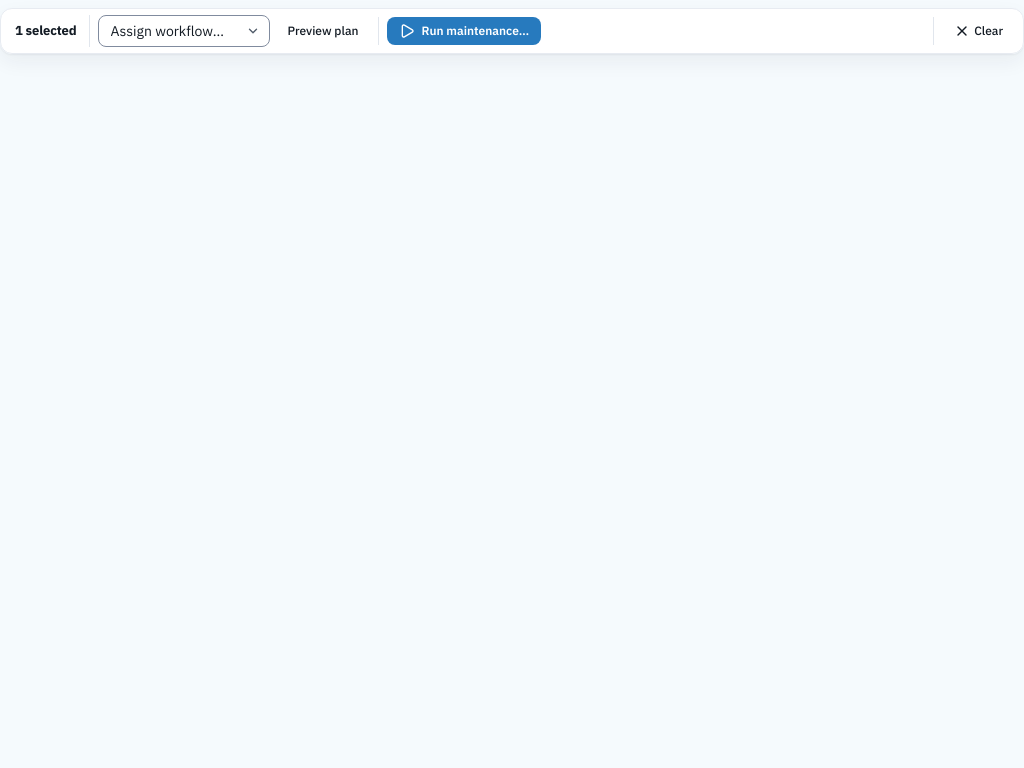
BulkAssignBar › labels native engine destinations and blocks manifest-only runs on them
This screenshot has width=1024, height=768.
Click the button "Run maintenance…" at (464, 31), box [388, 17, 541, 45]
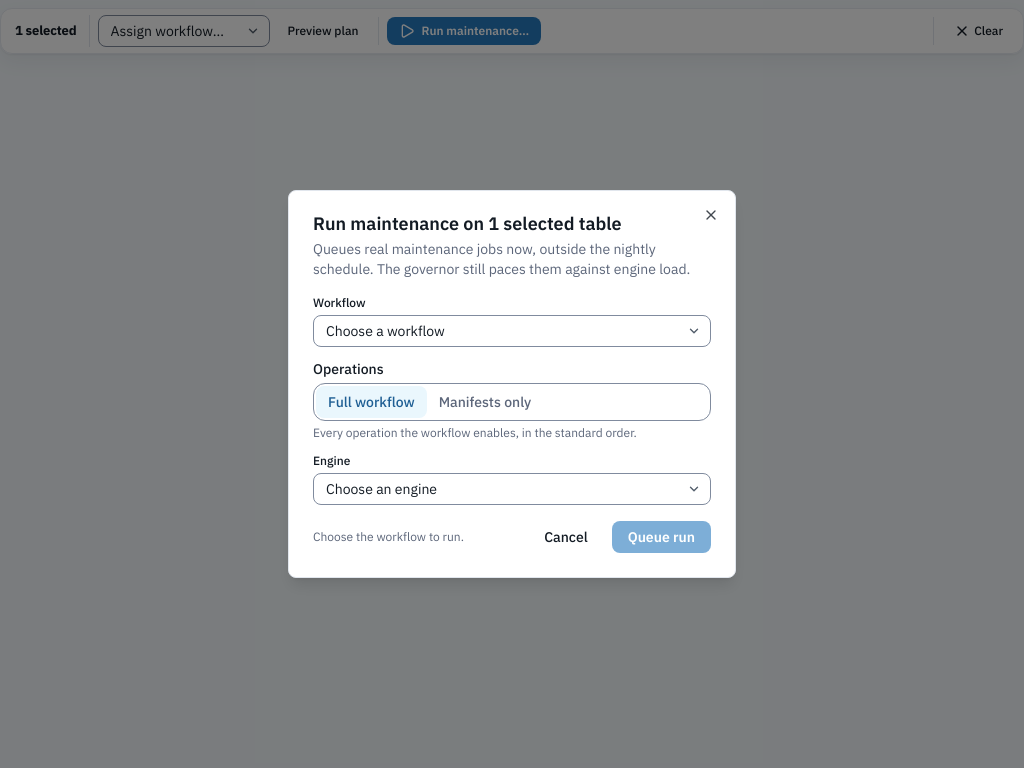
Select "trino-standard · standard maintenance preset" in the dropdown named "Run workflow" at (512, 331), box [313, 315, 711, 347]
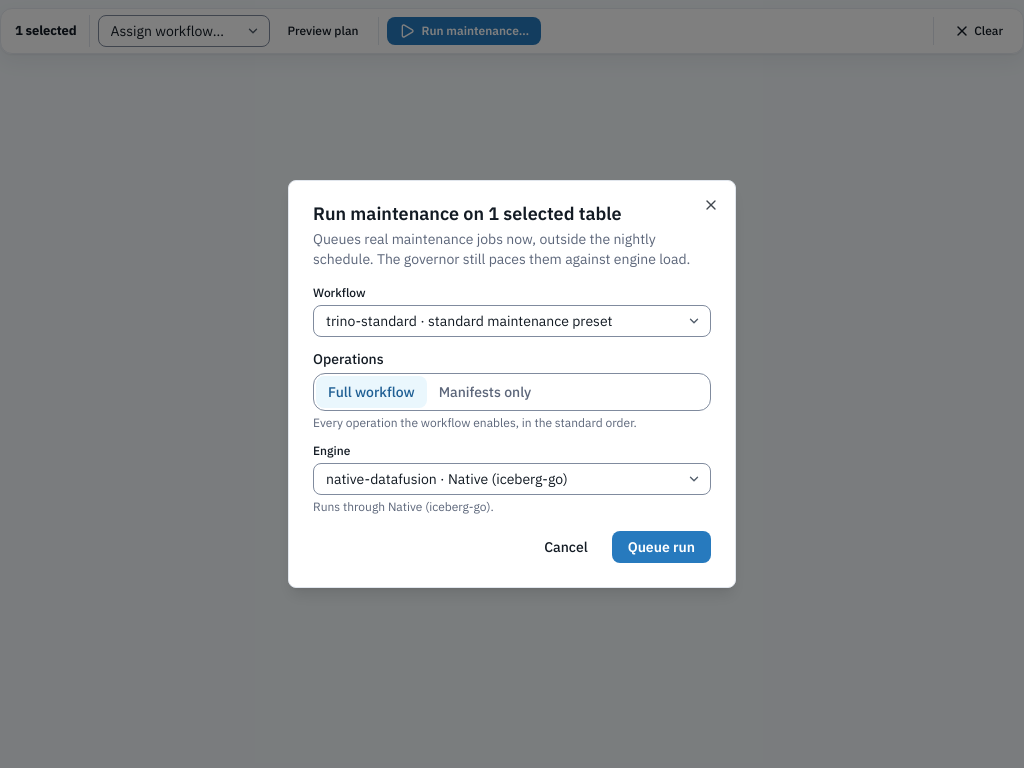
Click the button "Manifests only" at (485, 392), box [427, 376, 543, 408]
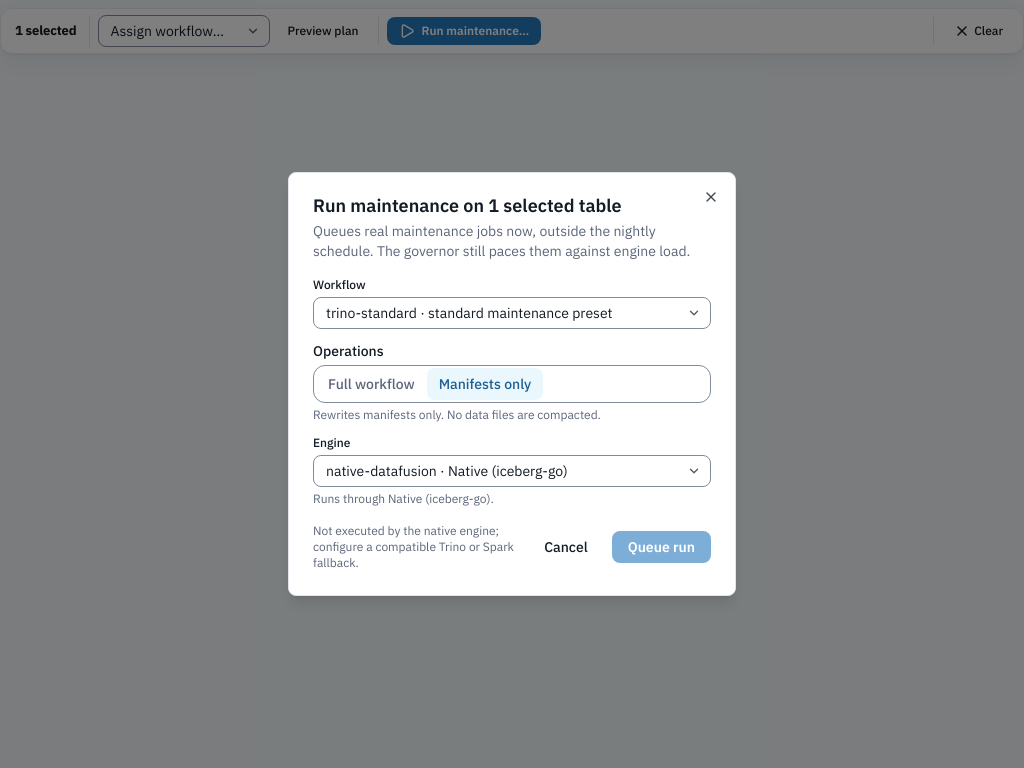
Expected: the button "Queue run" is disabled, [612, 531, 711, 563]
